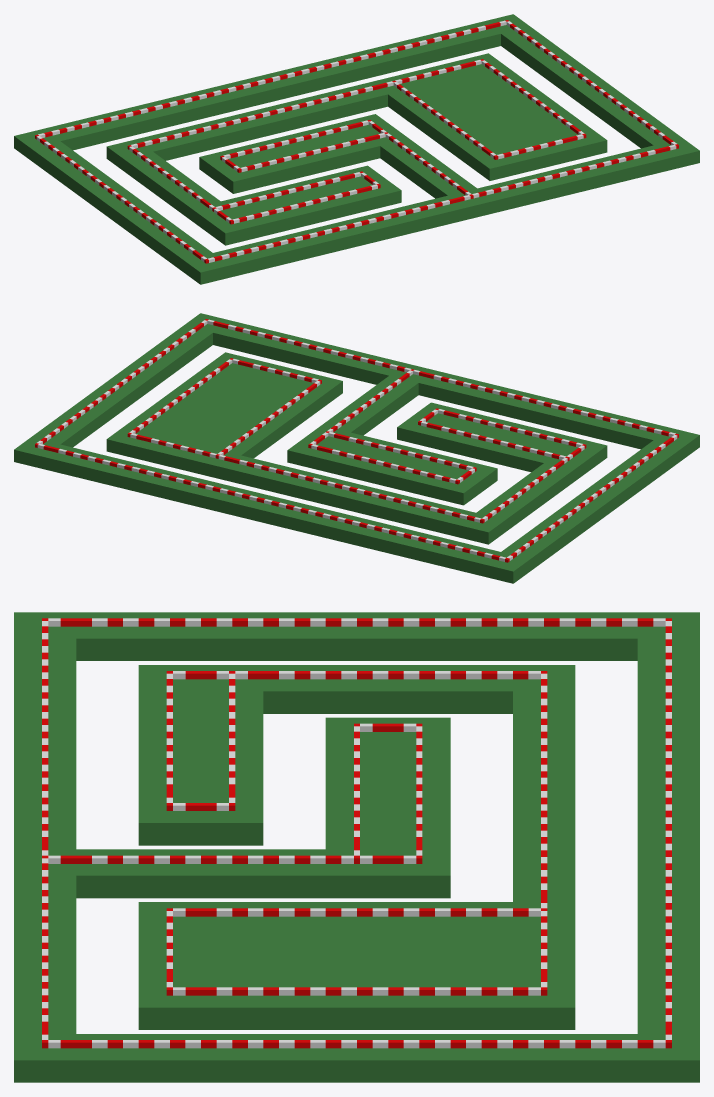
Rendered from Ground13-G.fbx.
3 views of the same model, one above another, from view 1: azimuth 30°, elevation 25°; view 2: azimuth 150°, elevation 25°; view 3: azimuth 270°, elevation 25° (orthographic). The views are drawn at different scales.
Visible parts, largest first — view 1: polySurface452; view 2: polySurface452; view 3: polySurface452.
Boxes of the visible parts, x1,y1,x2,y2 form: polySurface452: [14, 14, 699, 284]; polySurface452: [14, 313, 699, 583]; polySurface452: [14, 612, 699, 1082].
Bounding box in the file's own units: 850 × 25 × 550.
